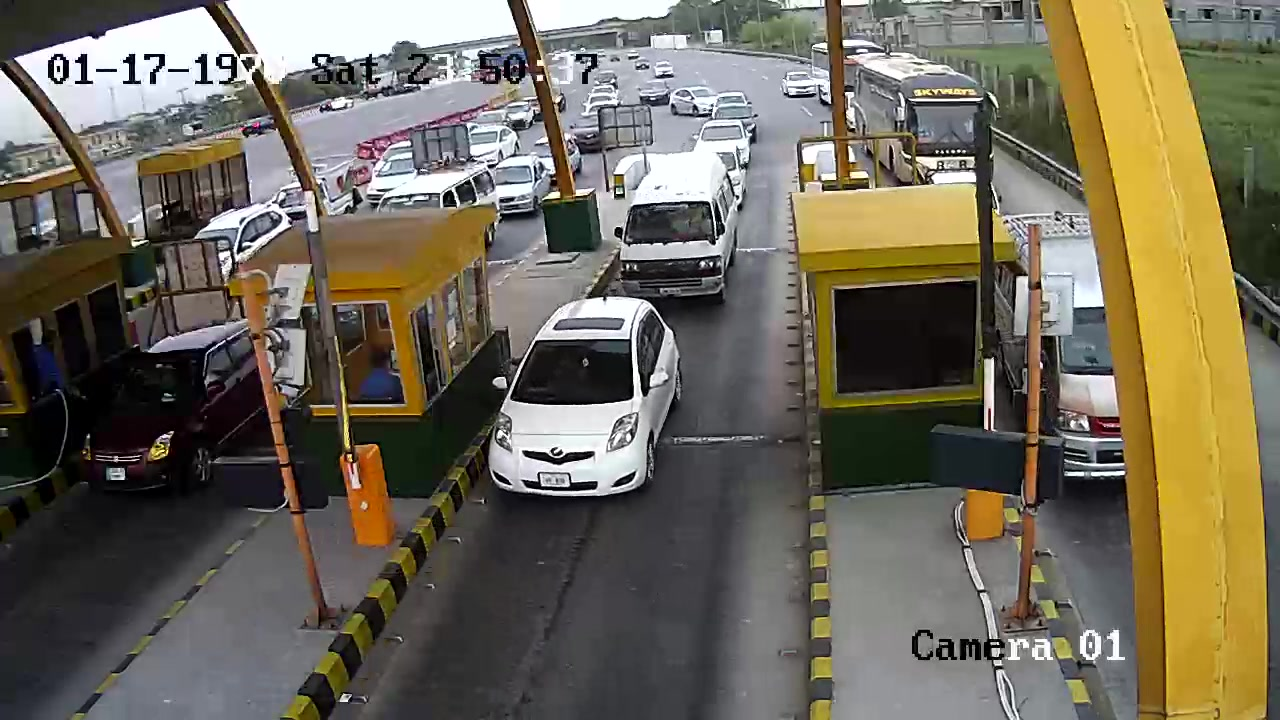F1: (487, 290, 683, 513)
